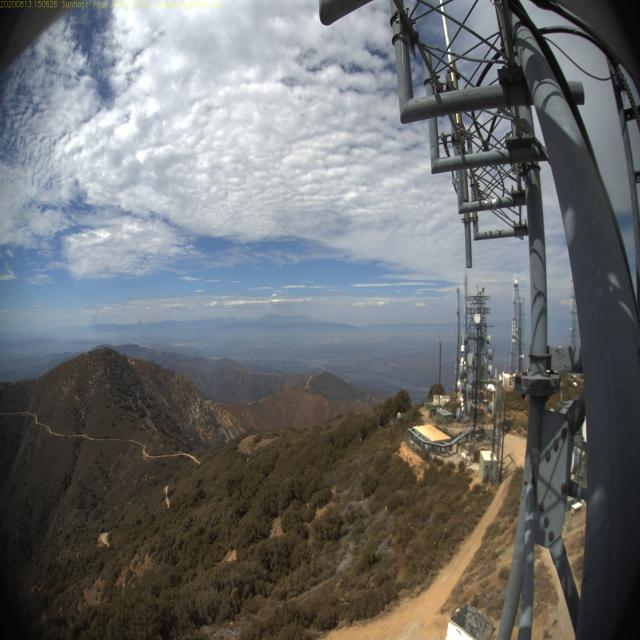smoke: (133, 313, 148, 345)
